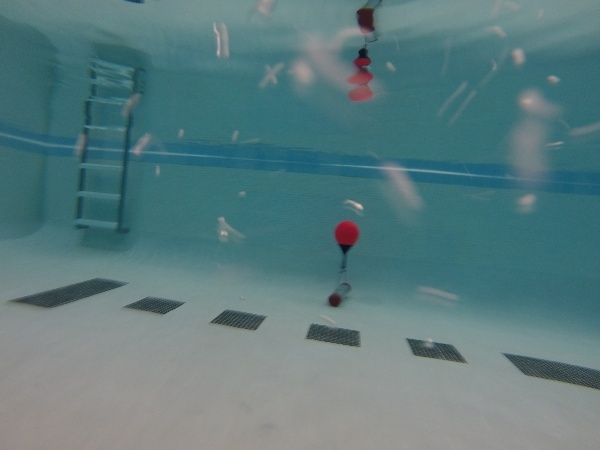buoy_red: (335, 218, 358, 254)
